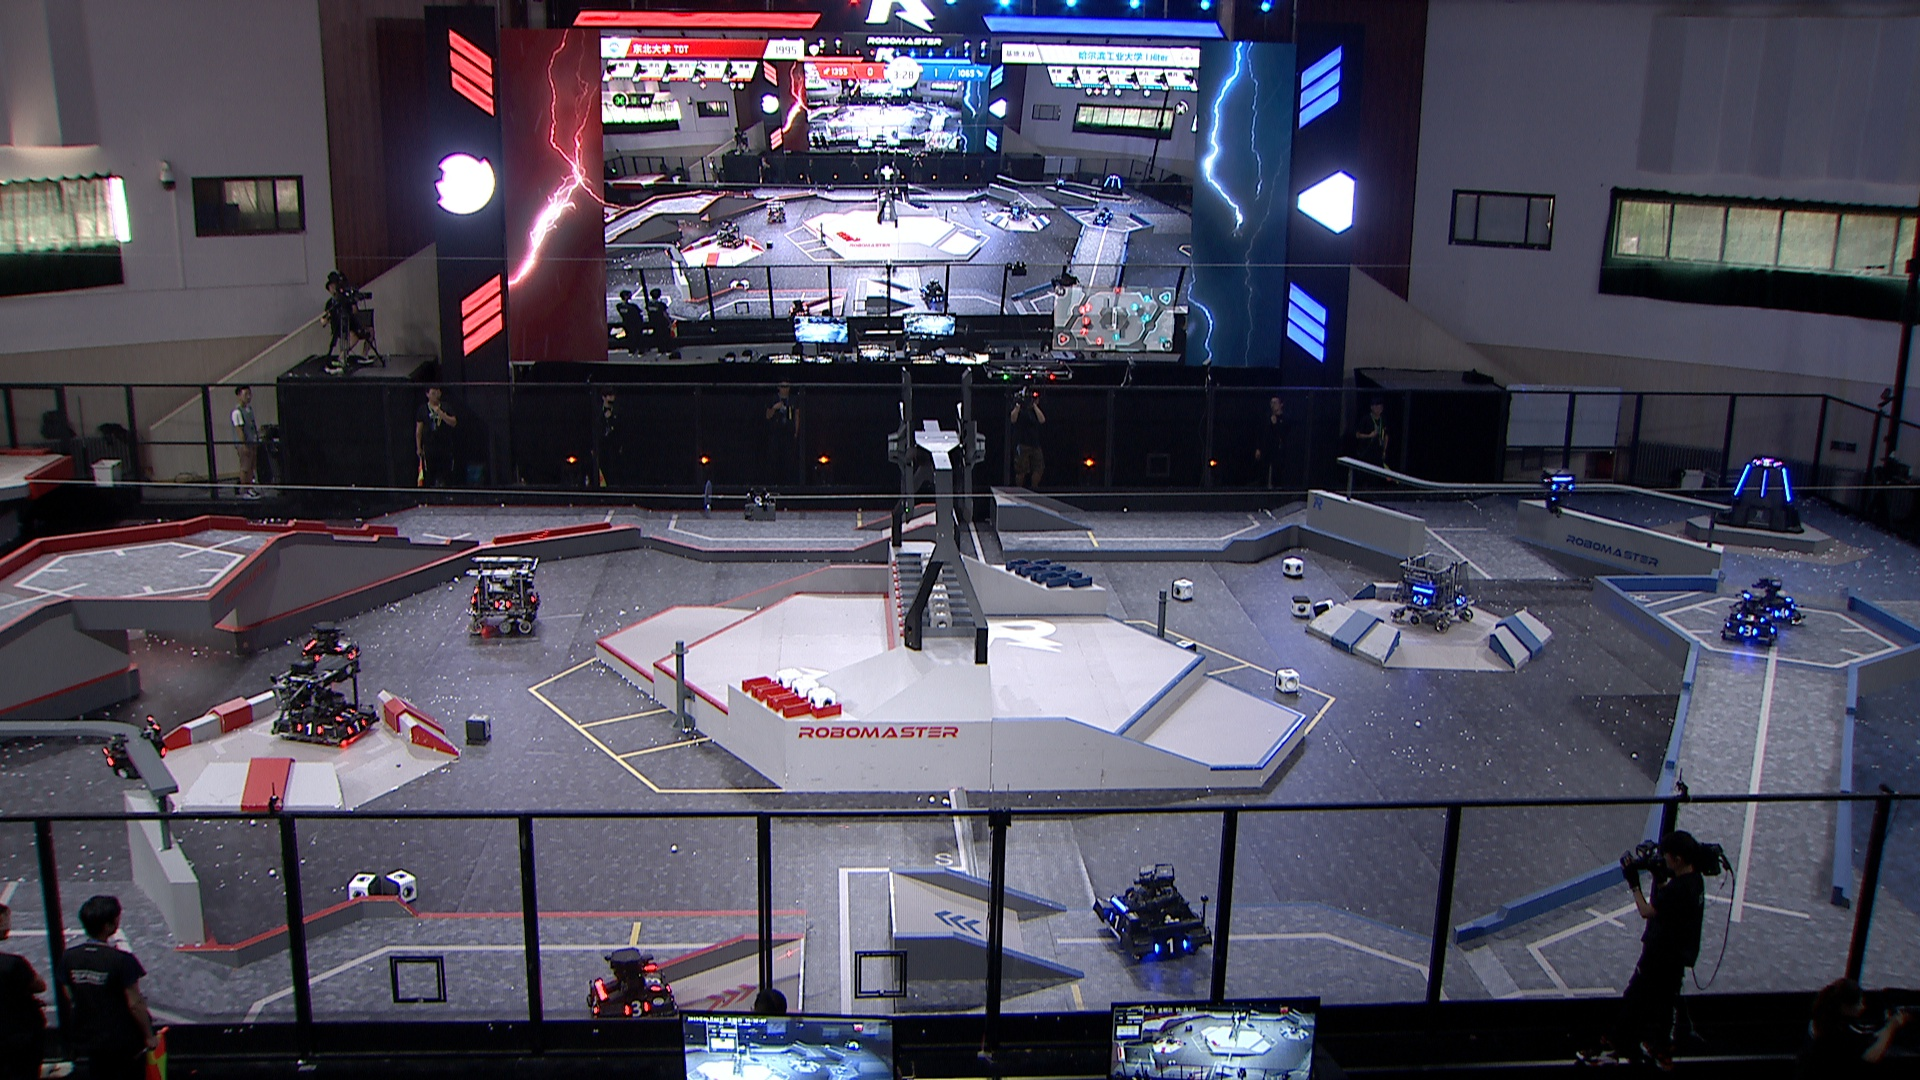armor: (1153, 936, 1191, 960), (618, 997, 651, 1021), (1731, 462, 1754, 496), (291, 719, 324, 741), (1106, 910, 1130, 936), (342, 717, 371, 737), (642, 968, 665, 993), (583, 989, 604, 1015), (1779, 465, 1793, 504), (98, 744, 117, 771), (334, 703, 357, 725), (1735, 609, 1766, 626), (1756, 465, 1771, 500), (1452, 589, 1472, 609), (1410, 591, 1429, 609), (493, 597, 516, 613), (1551, 480, 1575, 495), (1735, 622, 1759, 637), (1774, 607, 1789, 618)
base: (1708, 454, 1807, 533)
car: (1093, 862, 1211, 969), (272, 650, 376, 746), (580, 949, 680, 1030), (1389, 550, 1480, 632), (467, 551, 541, 637), (294, 618, 363, 676), (1731, 574, 1803, 626), (1721, 595, 1780, 647), (913, 698, 923, 704)
ignore: (920, 276, 951, 305), (713, 222, 744, 249), (1100, 171, 1127, 196), (1006, 199, 1033, 222), (766, 196, 785, 225), (1754, 458, 1783, 469)
watcher: (98, 712, 171, 789), (1539, 463, 1577, 520)
